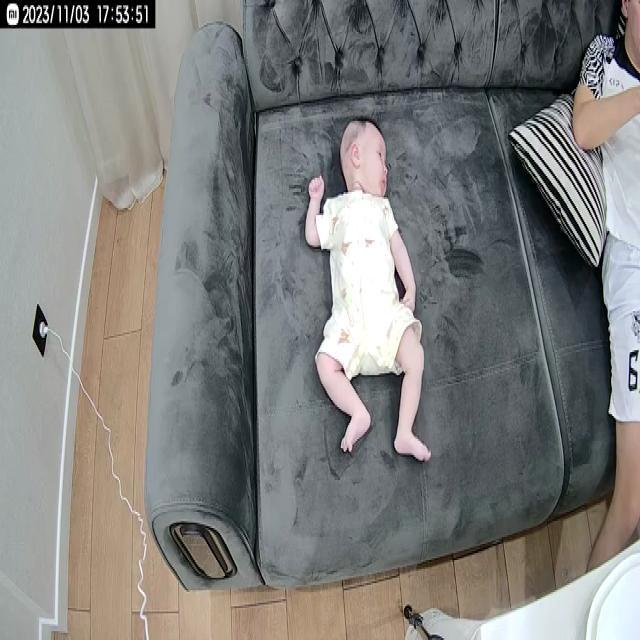baby: (306, 116, 432, 468)
